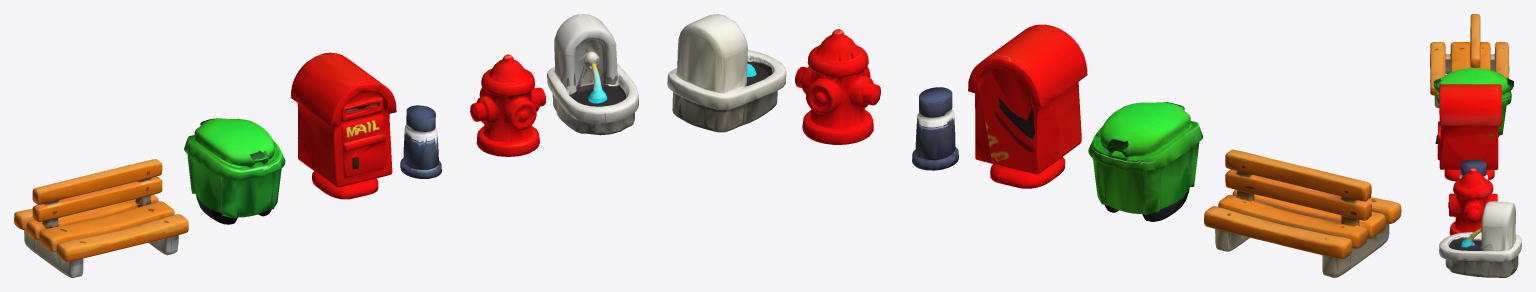
Rendered from mobilier_urbain.glb.
3 renders of one model, left to right at view 1: azimuth 30°, elevation 25°; view 2: azimuth 150°, elevation 25°; view 3: azimuth 270°, elevation 25°, orthographic. The views are drawn at different scales.
Visible parts, largest first — view 1: mesh_node; view 2: mesh_node; view 3: mesh_node.
Boxes of the visible parts, x1,y1,x2,y2 form: mesh_node: (14,14,638,277); mesh_node: (667,14,1401,277); mesh_node: (1430,14,1521,277).
Size of the model in its own units: 1.9 by 0.3695 by 0.3382.
1 material, 1 textured.
